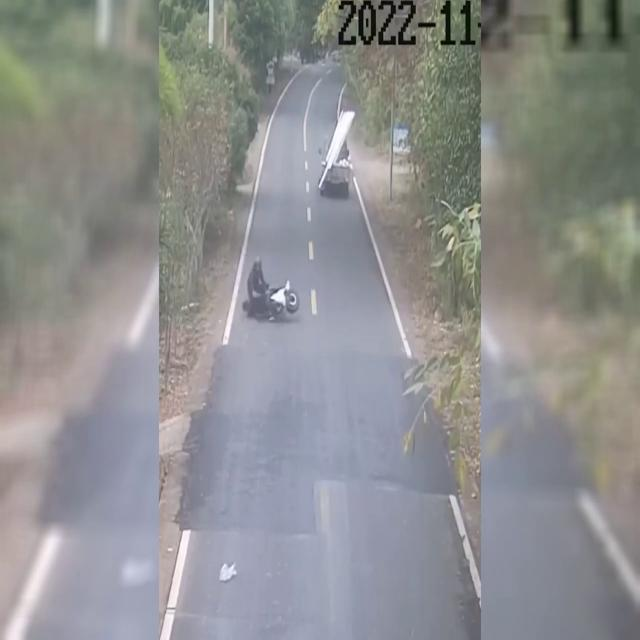single accident: (224, 173, 313, 362)
